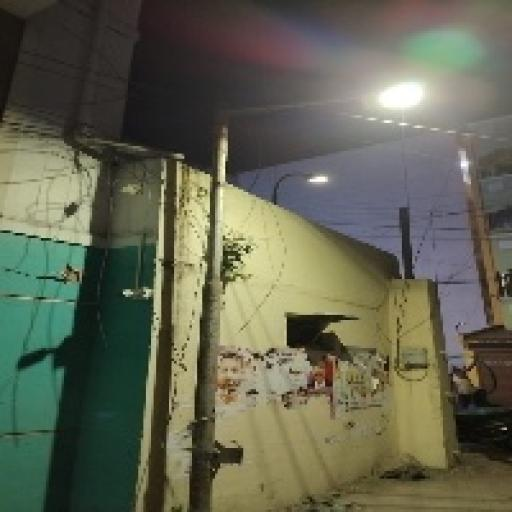Working: (366, 74, 442, 124), (302, 169, 333, 189)
